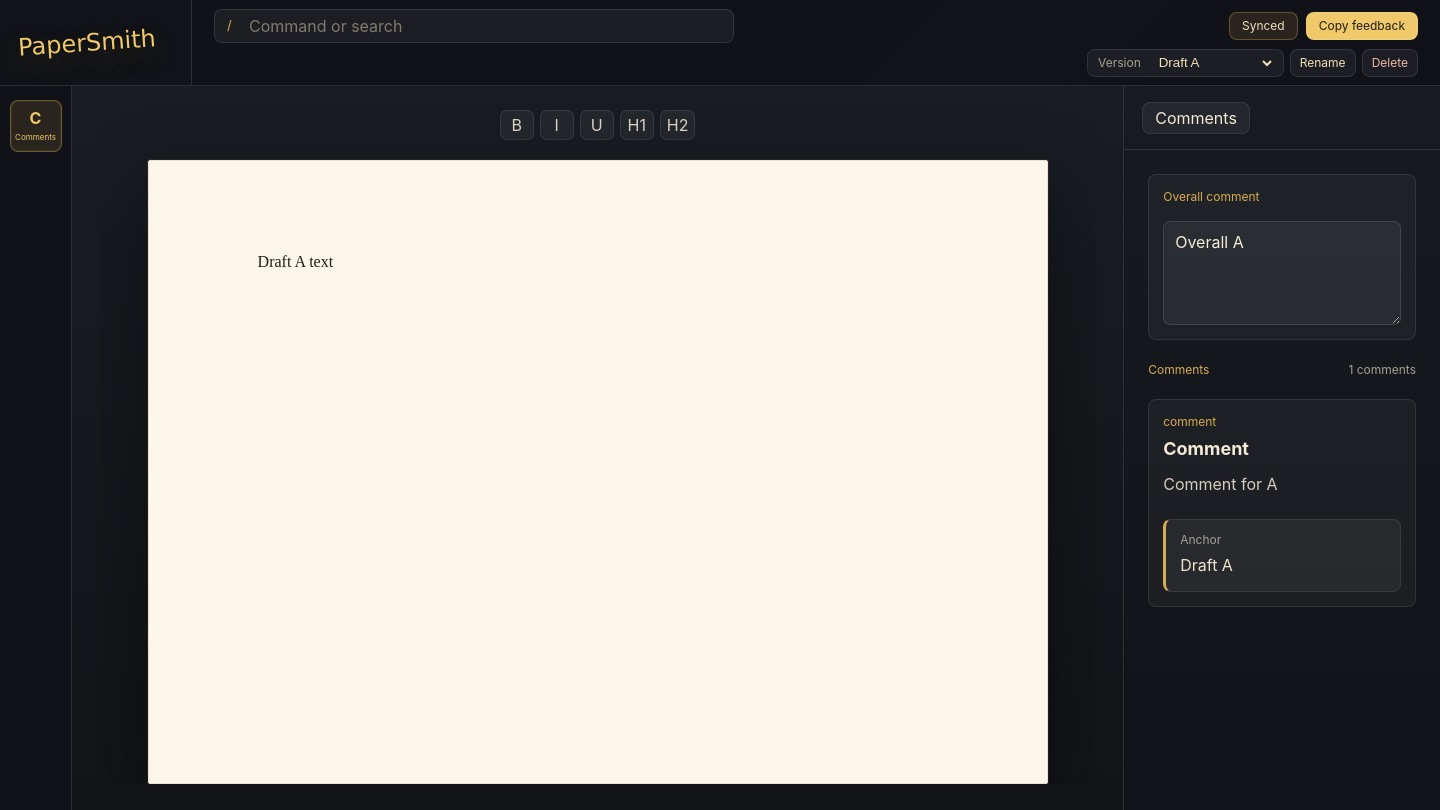
App document loading › deletes the active Codex draft version and switches to the adjacent draft
Expected: the text box "Draft A text" is shown, [258,253,333,270]
Click the button with aria-label "Delete draft version" at (1390, 62), box [1362,48,1418,76]
Wait 400 ms
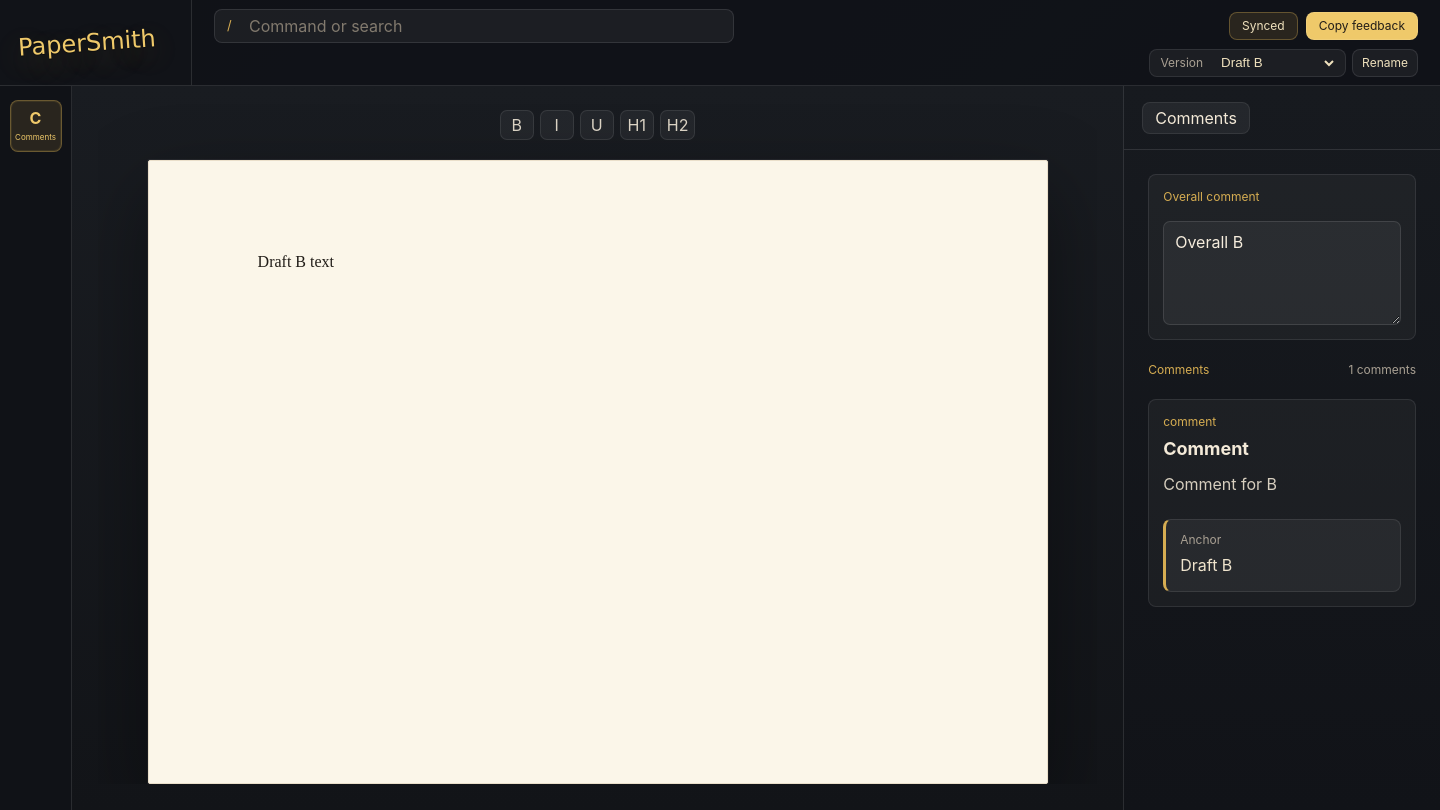
Expected: the text box "Draft B text" is shown, [258,253,334,270]
Expected: the field labelled "Draft A" is gone
